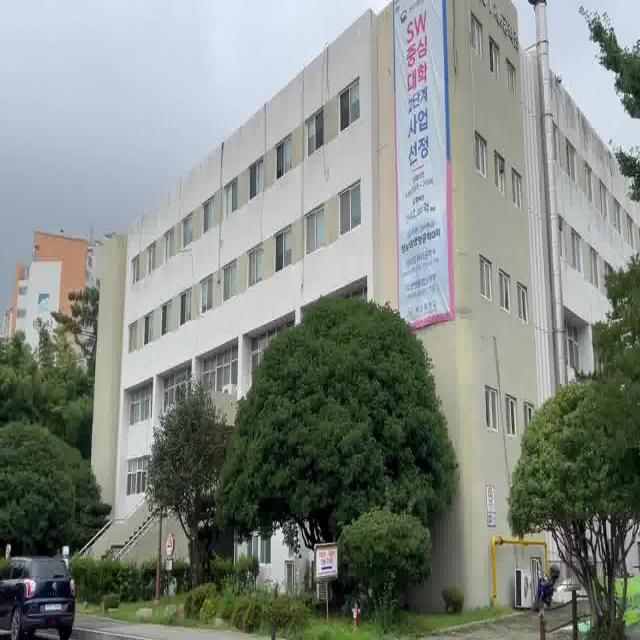building: (110, 50, 387, 310)
